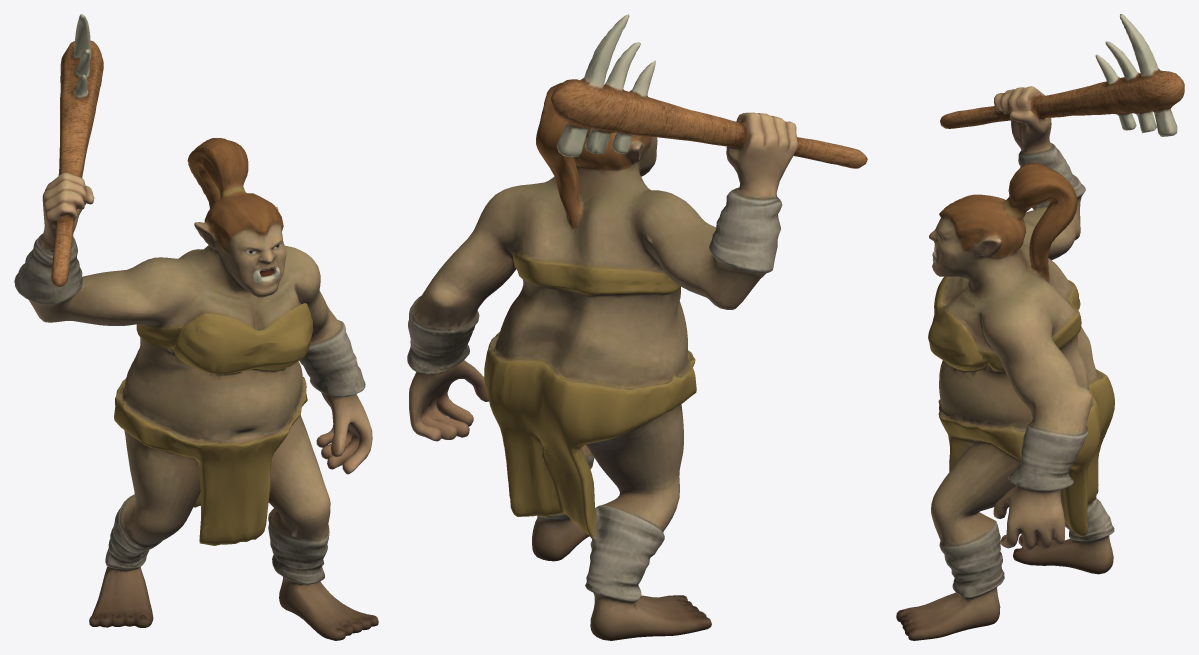
Rendered from MZ4250 - Female Ogre.glb.
The picture shows the model from 3 angles, left to right: view 1: azimuth 30°, elevation 25°; view 2: azimuth 150°, elevation 25°; view 3: azimuth 270°, elevation 25°; orthographic projection. The views are drawn at different scales.
Parts seen in each view (by area): view 1: Female_Ogre_low.001; view 2: Female_Ogre_low.001; view 3: Female_Ogre_low.001.
Boxes of the visible parts, x1,y1,x2,y2 form: Female_Ogre_low.001: (14,14,378,640); Female_Ogre_low.001: (407,14,867,640); Female_Ogre_low.001: (896,14,1184,640).
Bounding box in the file's own units: 2.87 × 4.43 × 2.13.
Materials: 1 (1 with a texture image).
